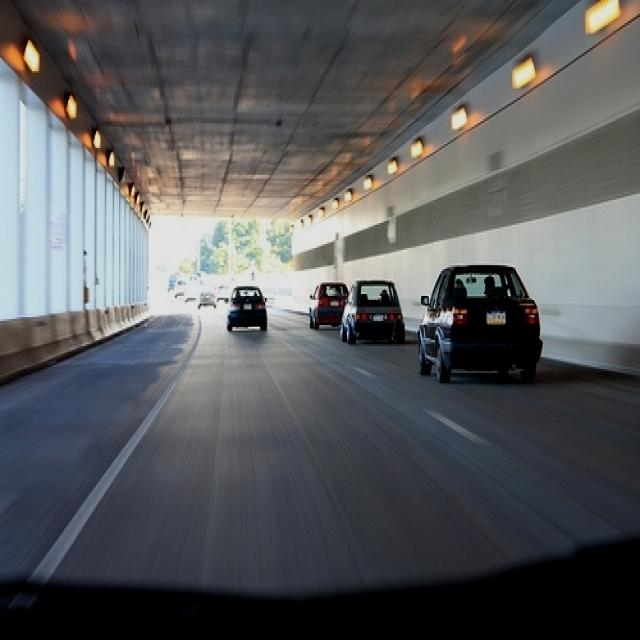Carro Cinza: (343, 281, 405, 346)
Carro Preto: (415, 265, 543, 383), (224, 285, 270, 329)
Carro Vermelho: (310, 285, 350, 327)
